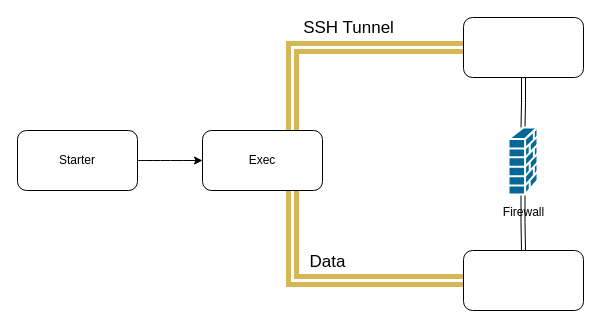
Some shapes in this 601 by 328 pixel diagram are drawn without their labels. The shapes that lost their labels are listed below. From the top down, each one's box as (x1, y1, x2, y2) in pixels, then its label:
(462, 16, 584, 78): Client
(462, 250, 584, 310): Server
